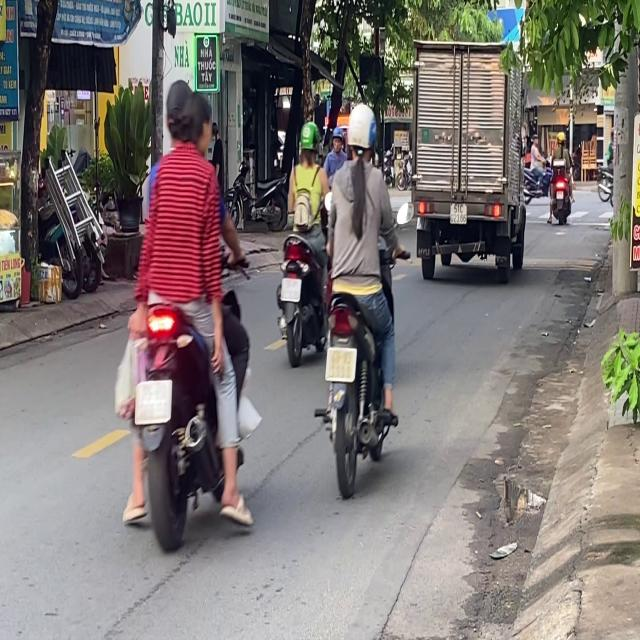helmet: (346, 103, 376, 161), (298, 120, 320, 162), (330, 124, 344, 152)
licenseplate: (110, 76, 261, 553), (316, 100, 406, 494), (275, 118, 329, 364)
motorcyclist: (177, 91, 216, 165)
nohelmet: (135, 380, 171, 422), (325, 346, 356, 381), (281, 278, 300, 300)
